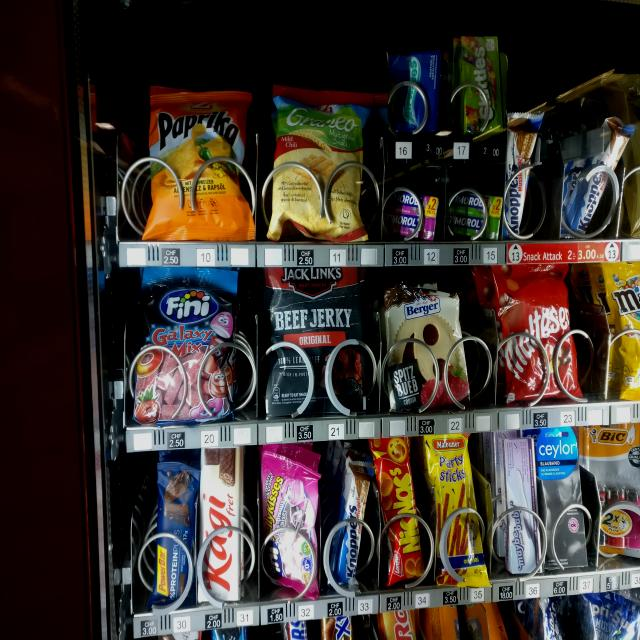airwaves_menthoneucalyptus_riegel_14_1_50173167: (388, 49, 441, 135)
fini_galaxymix_packung_100_1_8410525150364: (131, 270, 240, 418)
fini_jellykisses_packung_80_1_8410525116704: (260, 448, 319, 591)
jacklinks_beefjerkyorginal__25__4047751730219: (263, 263, 370, 419)
kagi___50__7610046000259: (199, 444, 243, 604)
knoppers_riegel____4035800488808: (574, 110, 624, 238), (329, 458, 377, 589), (504, 110, 541, 238)
lorenz_nicnacs__40__4018077798818: (372, 433, 429, 587)
malburner_partysticks__40__7610200279682: (424, 431, 489, 585)
maltesers___100__5000159023061: (491, 263, 587, 400)
powerbar_proteinplusschoko__55__4029679520028: (148, 460, 198, 603)
skittles_sour_riegel_51_1_0000000000004: (461, 32, 504, 136)
stimorol_spearmint_riegel_14_1_0000000000005: (446, 185, 503, 235)
stimorol_wildcherry_riegel_14_1_57060330: (384, 185, 441, 239)
zweifel_graneochilli__100__7610095184009: (268, 80, 373, 244)
zweifel_paprika__90__7610095013002: (148, 91, 257, 236)
